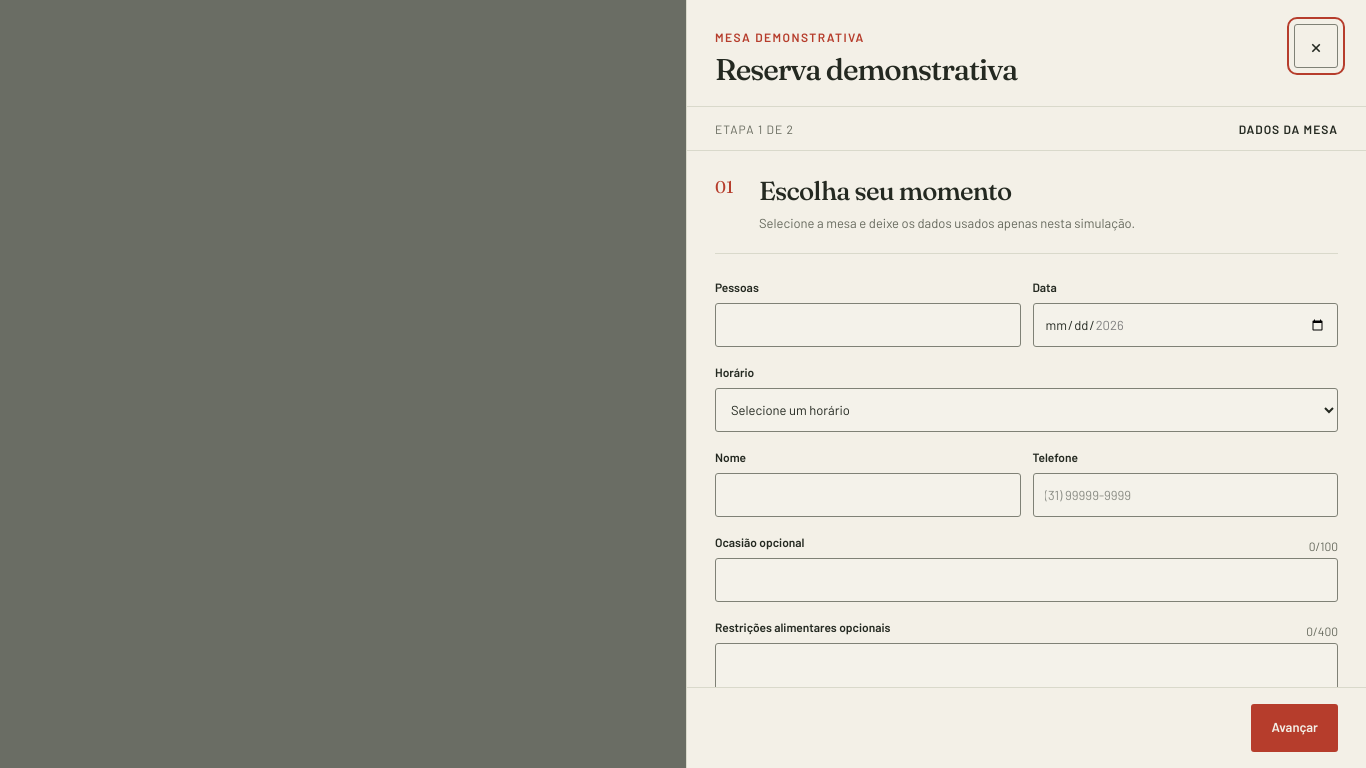
Test case: ReservationDemo › valida pessoas, data, horário e contato e foca o resumo
The image size is (1366, 768).
Type "9" into the number field labelled "Pessoas" at (868, 325), box [715,303,1020,347]
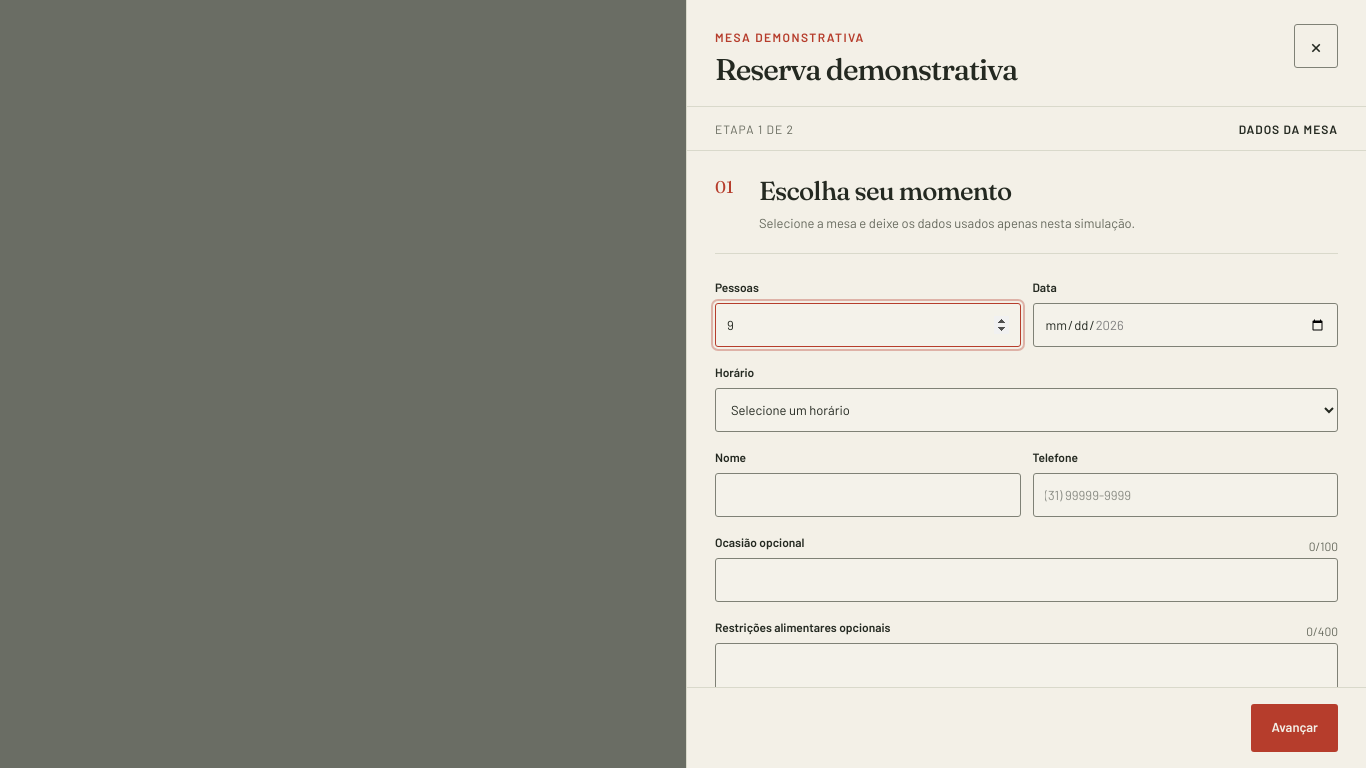
Type "2026-12-23" into the date field labelled "Data" at (1185, 325), box [1032,303,1338,347]
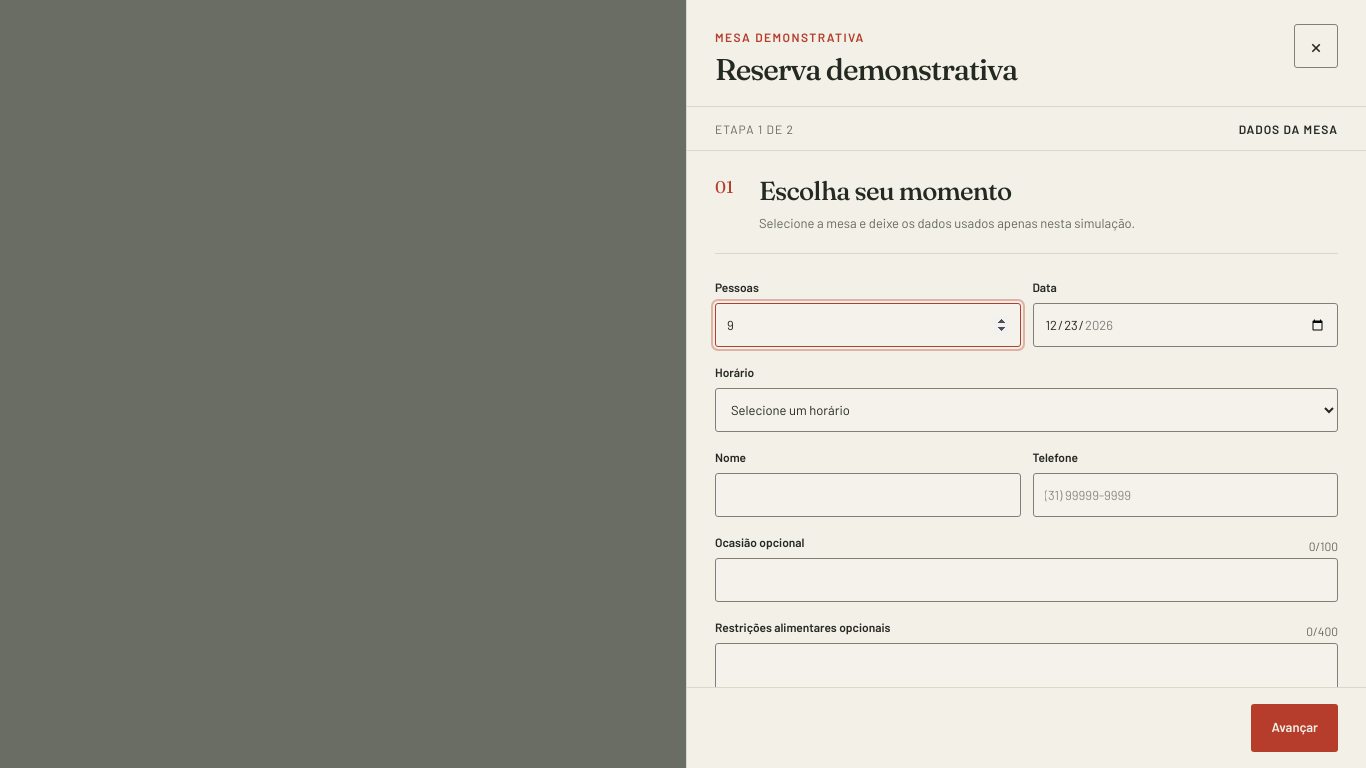
Type "A" into the field labelled "Nome" at (868, 495), box [715,473,1020,517]
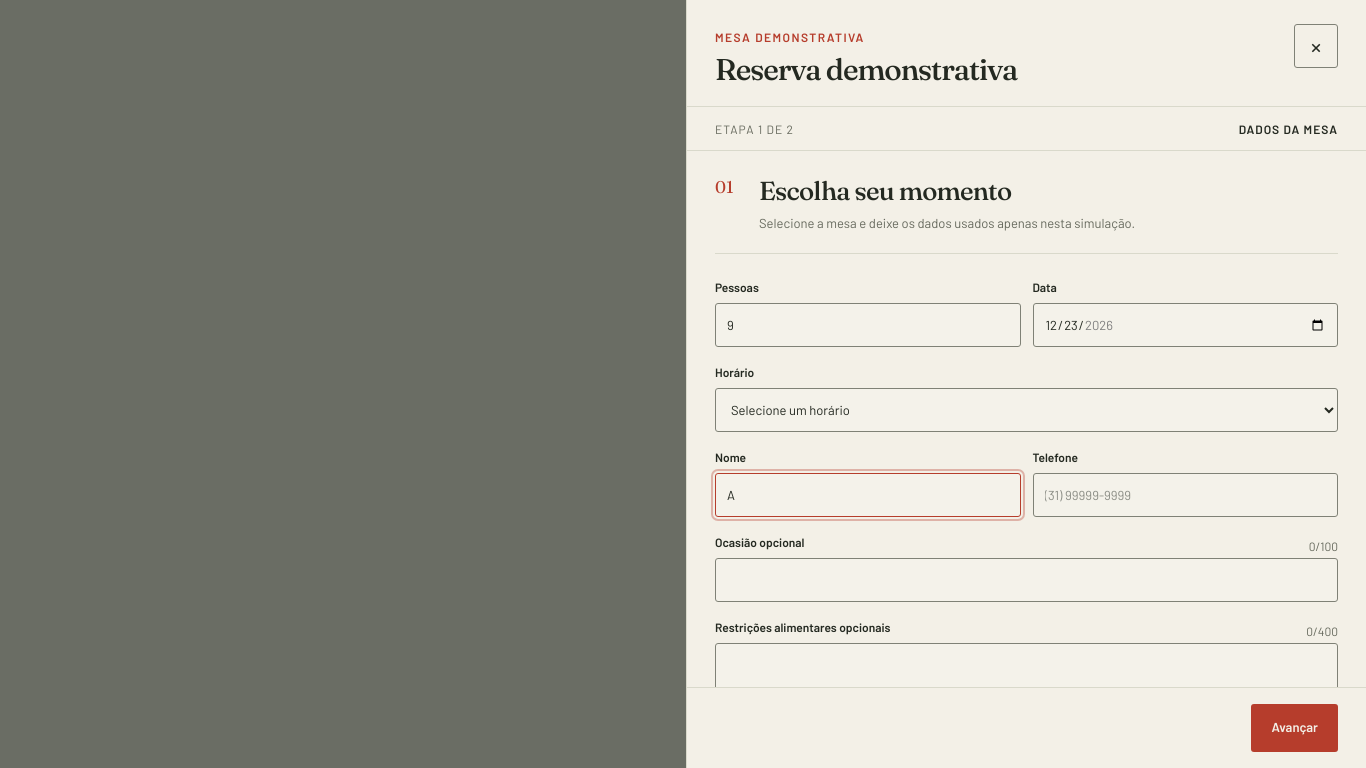
Type "31999" into the field labelled "Telefone" at (1185, 495), box [1032,473,1338,517]
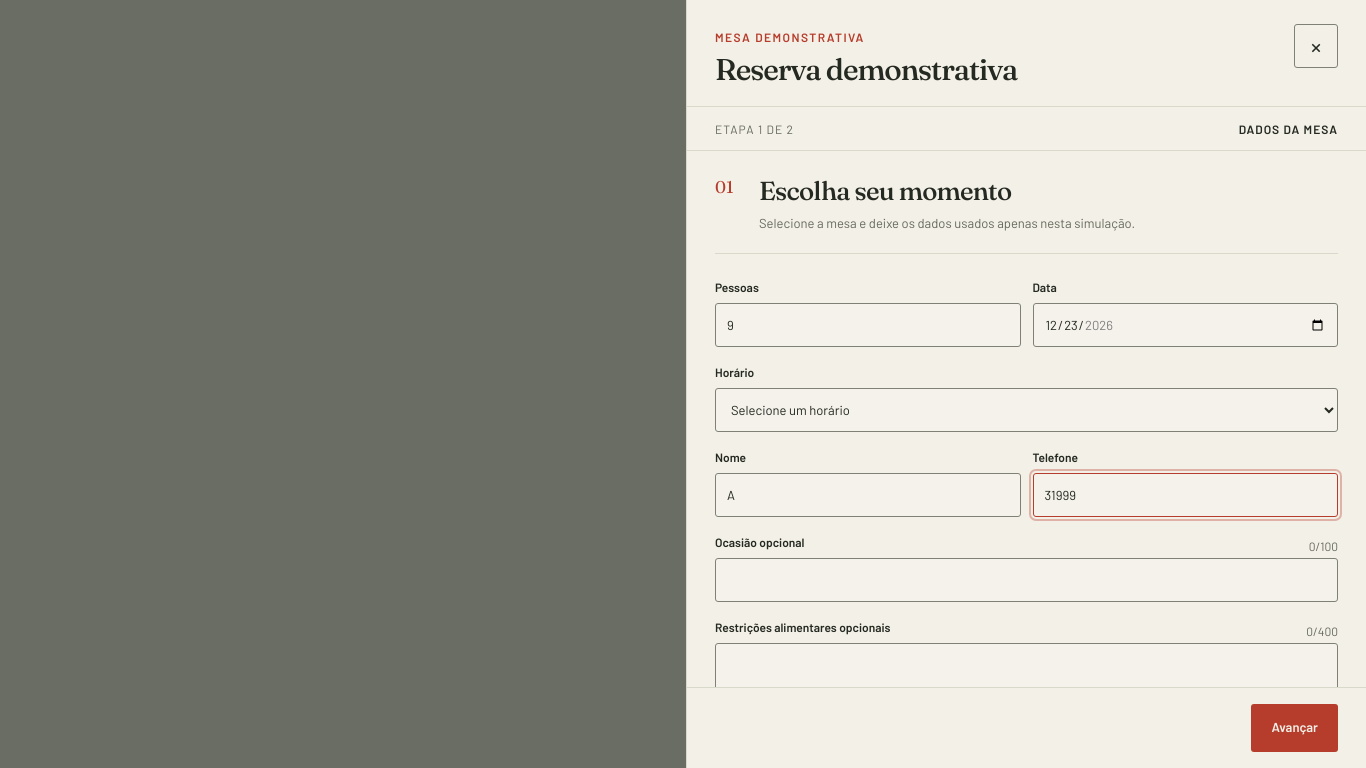
Click the button "Avançar" at (1295, 728), box [1252,704,1338,752]
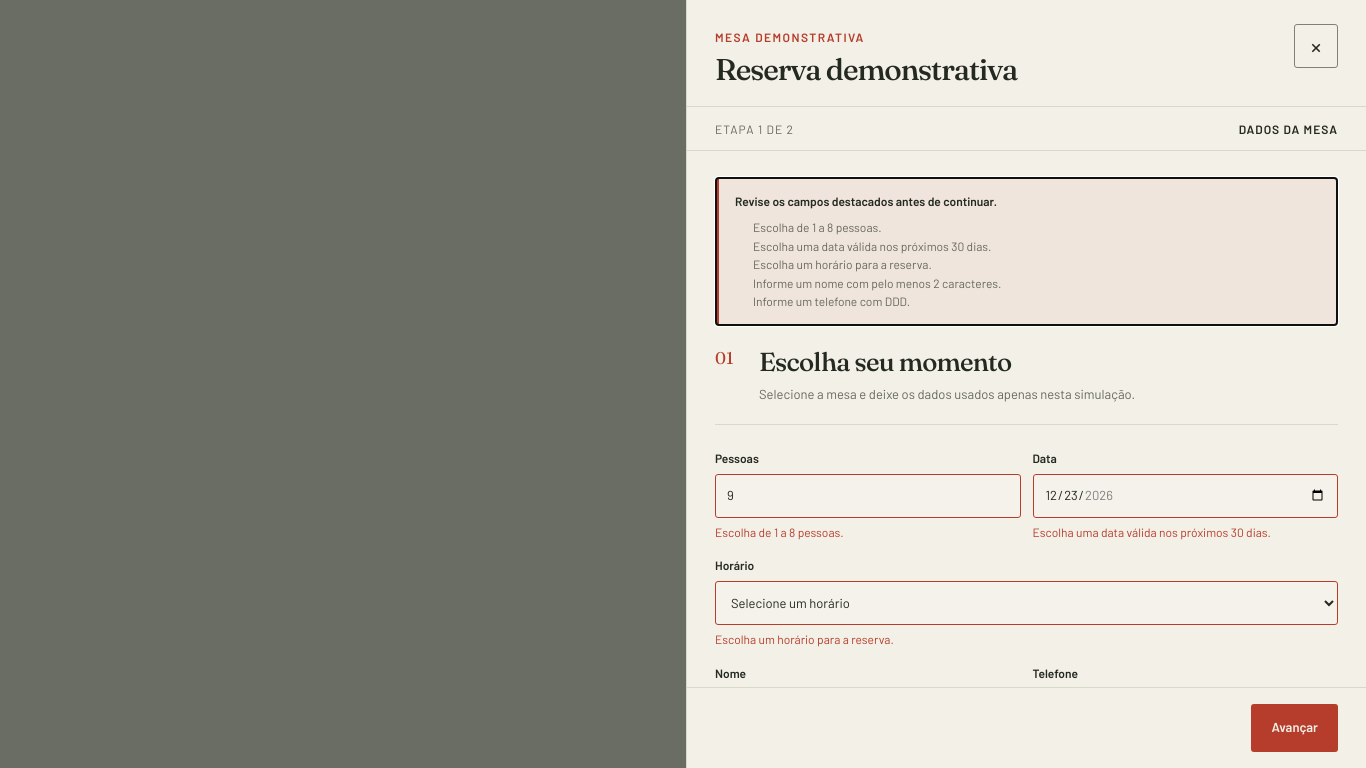
Expected: the message shows "1 a 8 pessoas", [753,220,882,234]
Expected: the message shows "próximos 30 dias", [753,239,991,253]
Expected: the message shows "horário", [753,257,932,271]
